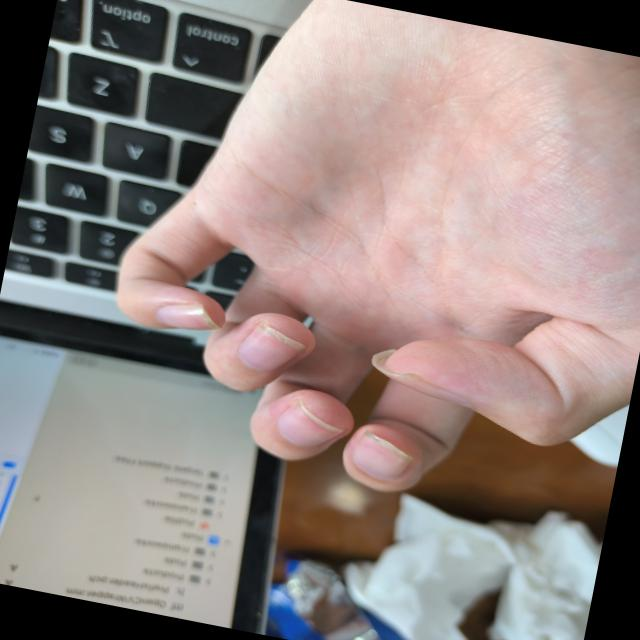Nail: (372, 363, 472, 407), (237, 321, 304, 370), (276, 398, 343, 445), (352, 430, 412, 479), (156, 304, 219, 329)
